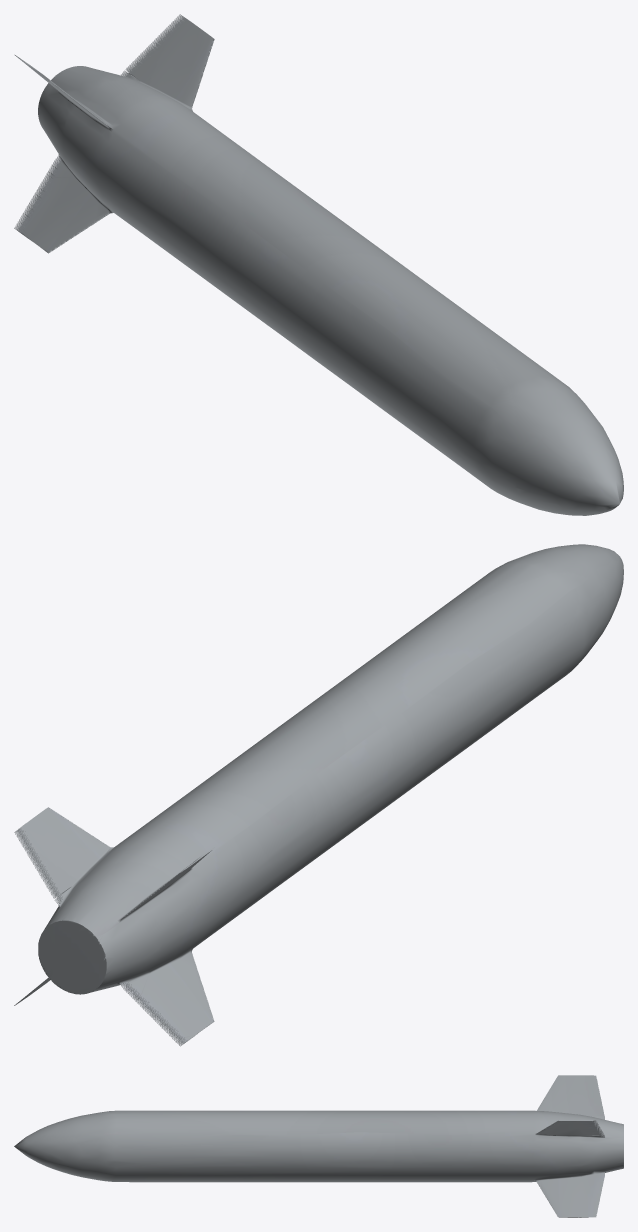
3 views of the same model, one above another, from view 1: azimuth 30°, elevation 25°; view 2: azimuth 150°, elevation 25°; view 3: azimuth 270°, elevation 25° (orthographic). The views are drawn at different scales.
Parts seen in each view (by area): view 1: airframe; view 2: airframe; view 3: airframe.
Part boxes in pixels (x1,y1,x2,y2): airframe: (14,14,623,515); airframe: (14,544,623,1046); airframe: (14,1075,623,1217).
Size of the model in its own units: 1.13 by 1.13 by 6.4.
Materials: 1 (1 with a texture image).
